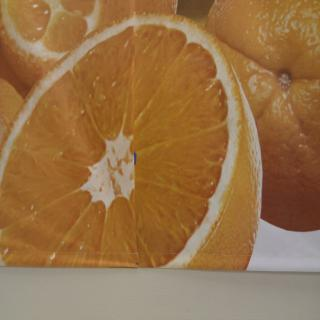Orange: (26, 14, 262, 269)
